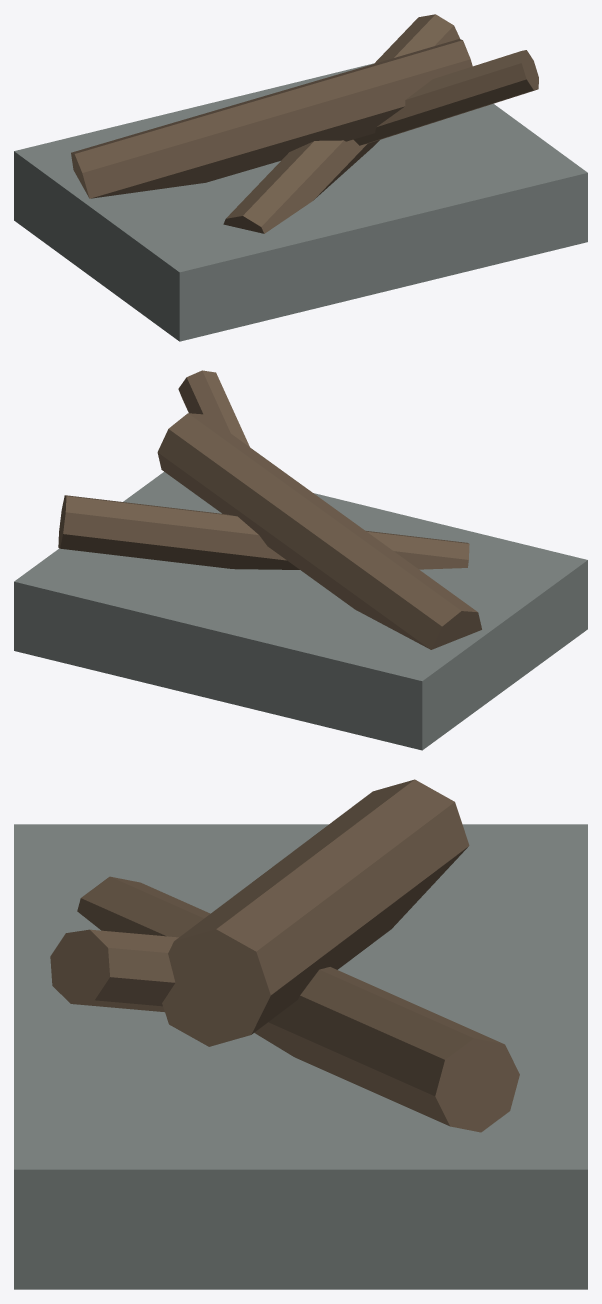
File: Identity-sanctuary_bank_root.glb
3 views of the same model, one above another, from view 1: azimuth 30°, elevation 25°; view 2: azimuth 150°, elevation 25°; view 3: azimuth 270°, elevation 25° (orthographic). The views are drawn at different scales.
Parts seen in each view (by area): view 1: BankStone, RootA, RootB, RootFork; view 2: BankStone, RootA, RootB, RootFork; view 3: BankStone, RootA, RootB, RootFork.
Part boxes in pixels (left/top/right/bottom): BankStone: left=14, top=63, right=587, bottom=341; RootA: left=71, top=39, right=472, bottom=198; RootB: left=223, top=14, right=459, bottom=233; RootFork: left=353, top=50, right=538, bottom=145; BankStone: left=14, top=472, right=587, bottom=750; RootA: left=157, top=413, right=481, bottom=649; RootB: left=58, top=495, right=469, bottom=569; RootFork: left=178, top=370, right=249, bottom=446; BankStone: left=14, top=824, right=587, bottom=1289; RootA: left=162, top=779, right=469, bottom=1046; RootB: left=77, top=876, right=519, bottom=1132; RootFork: left=50, top=929, right=178, bottom=1012.
Size of the model in its own units: 1.48 by 0.6445 by 1.04.
